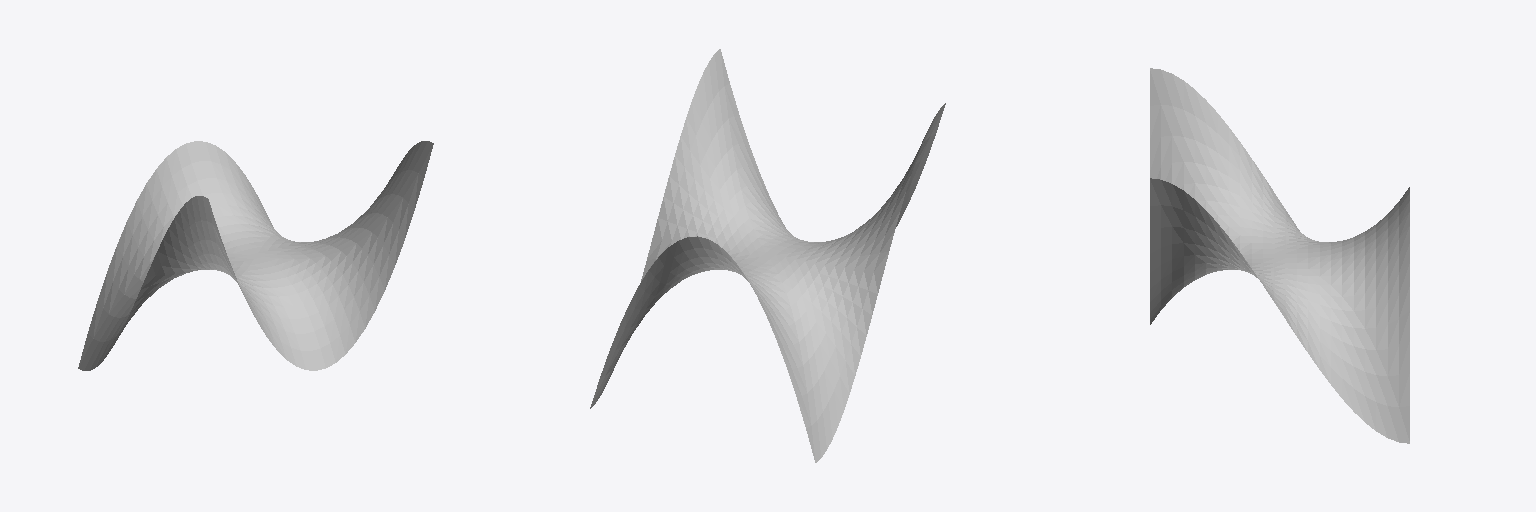
The model's file is singe.obj.
3 renders of one model, left to right at view 1: azimuth 30°, elevation 25°; view 2: azimuth 150°, elevation 25°; view 3: azimuth 270°, elevation 25°, orthographic.
Visible parts, largest first — view 1: Z_Function.003, Z_Function.000_Z_Function.004; view 2: Z_Function.003, Z_Function.000_Z_Function.004; view 3: Z_Function.003, Z_Function.000_Z_Function.004.
Boxes of the visible parts, x1=… form: Z_Function.003: x1=78, y1=141, x2=433, y2=370; Z_Function.000_Z_Function.004: x1=78, y1=141, x2=431, y2=370; Z_Function.003: x1=590, y1=49, x2=945, y2=462; Z_Function.000_Z_Function.004: x1=590, y1=51, x2=945, y2=462; Z_Function.003: x1=1150, y1=68, x2=1409, y2=443; Z_Function.000_Z_Function.004: x1=1150, y1=69, x2=1409, y2=443.
Bounding box in the file's own units: 1.5 × 1.69 × 1.5.